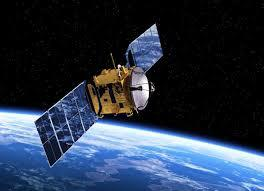antenna: (127, 66, 158, 114), (109, 49, 119, 74)
body: (85, 64, 135, 119)
solar: (32, 77, 100, 170), (127, 21, 165, 75)
